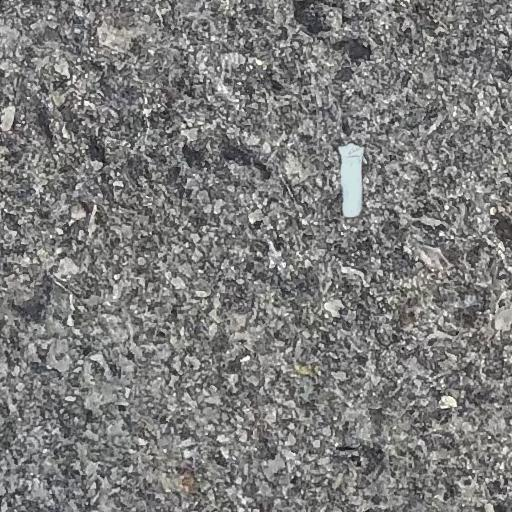smoke: (339, 144, 363, 217)
